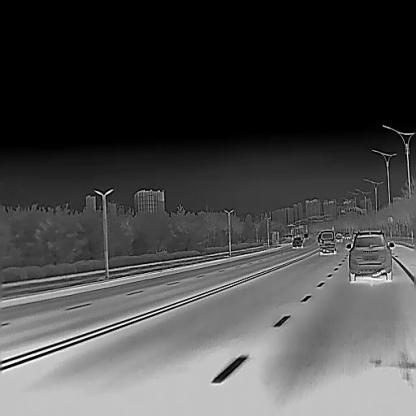car: (345, 229, 395, 281), (317, 229, 336, 255), (291, 237, 302, 249), (334, 231, 343, 242), (343, 231, 351, 239), (303, 233, 309, 240)
